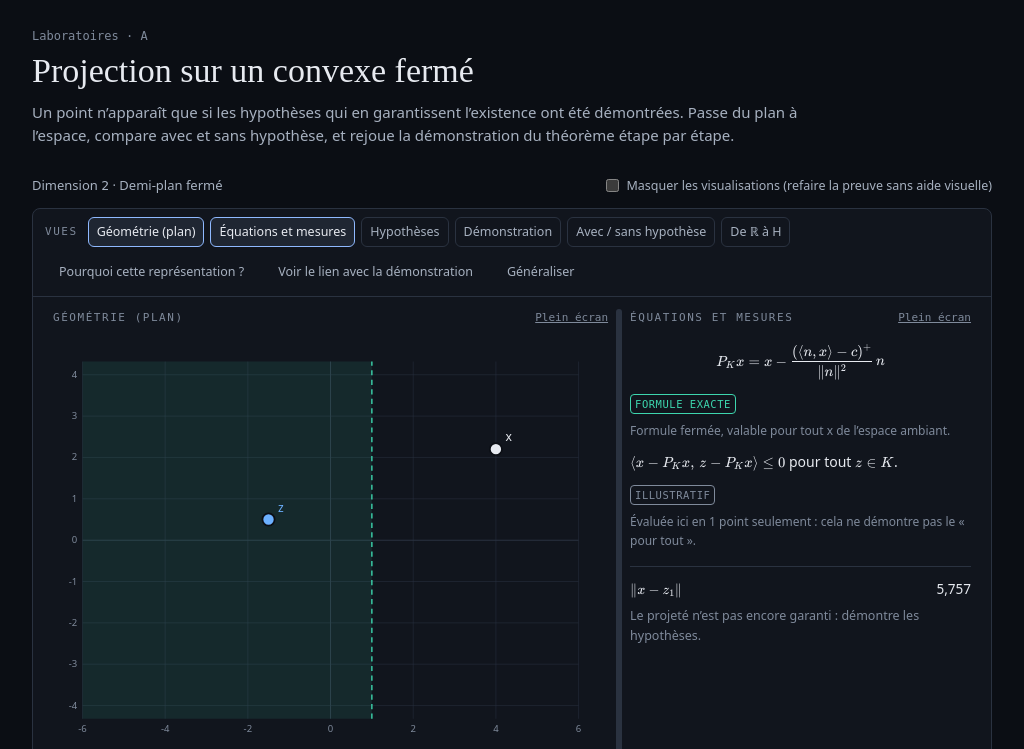
Scenario: Studio de projection › une étape établie dans le moteur de preuve devient accessible en mode Preuve
Click the button "Démonstration". click: {"x": 508, "y": 232}
box: [454, 217, 561, 246]
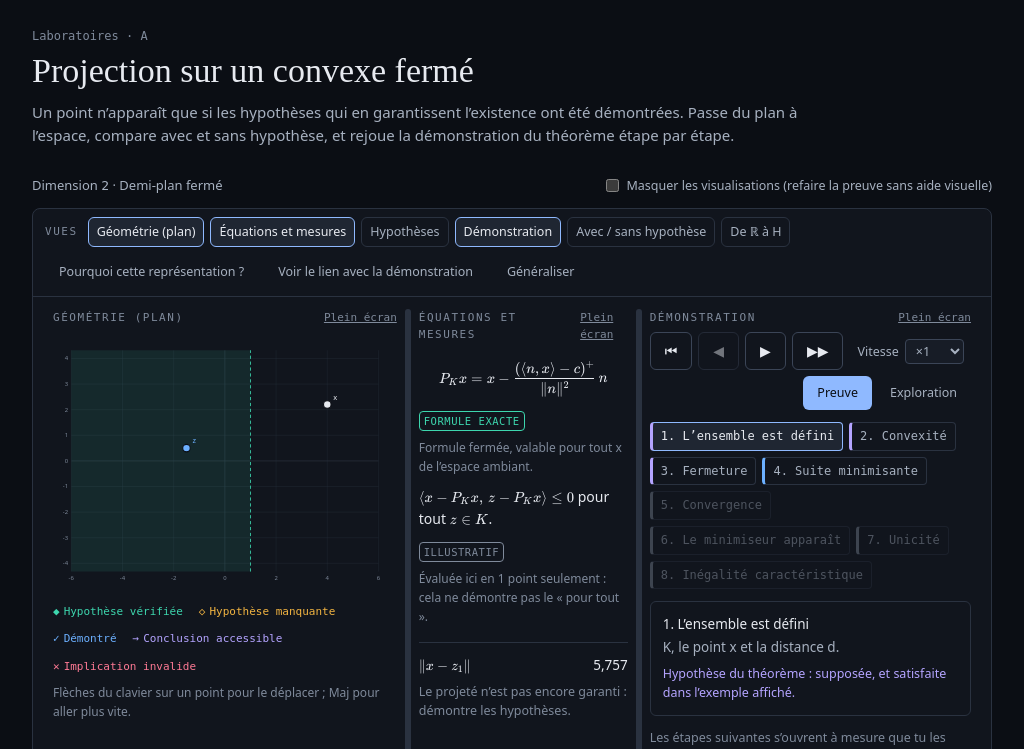
Expected: the button "4. Suite minimisante" is enabled, [762, 457, 927, 485]
Expected: the button "5. Convergence" is disabled, [650, 491, 771, 520]
